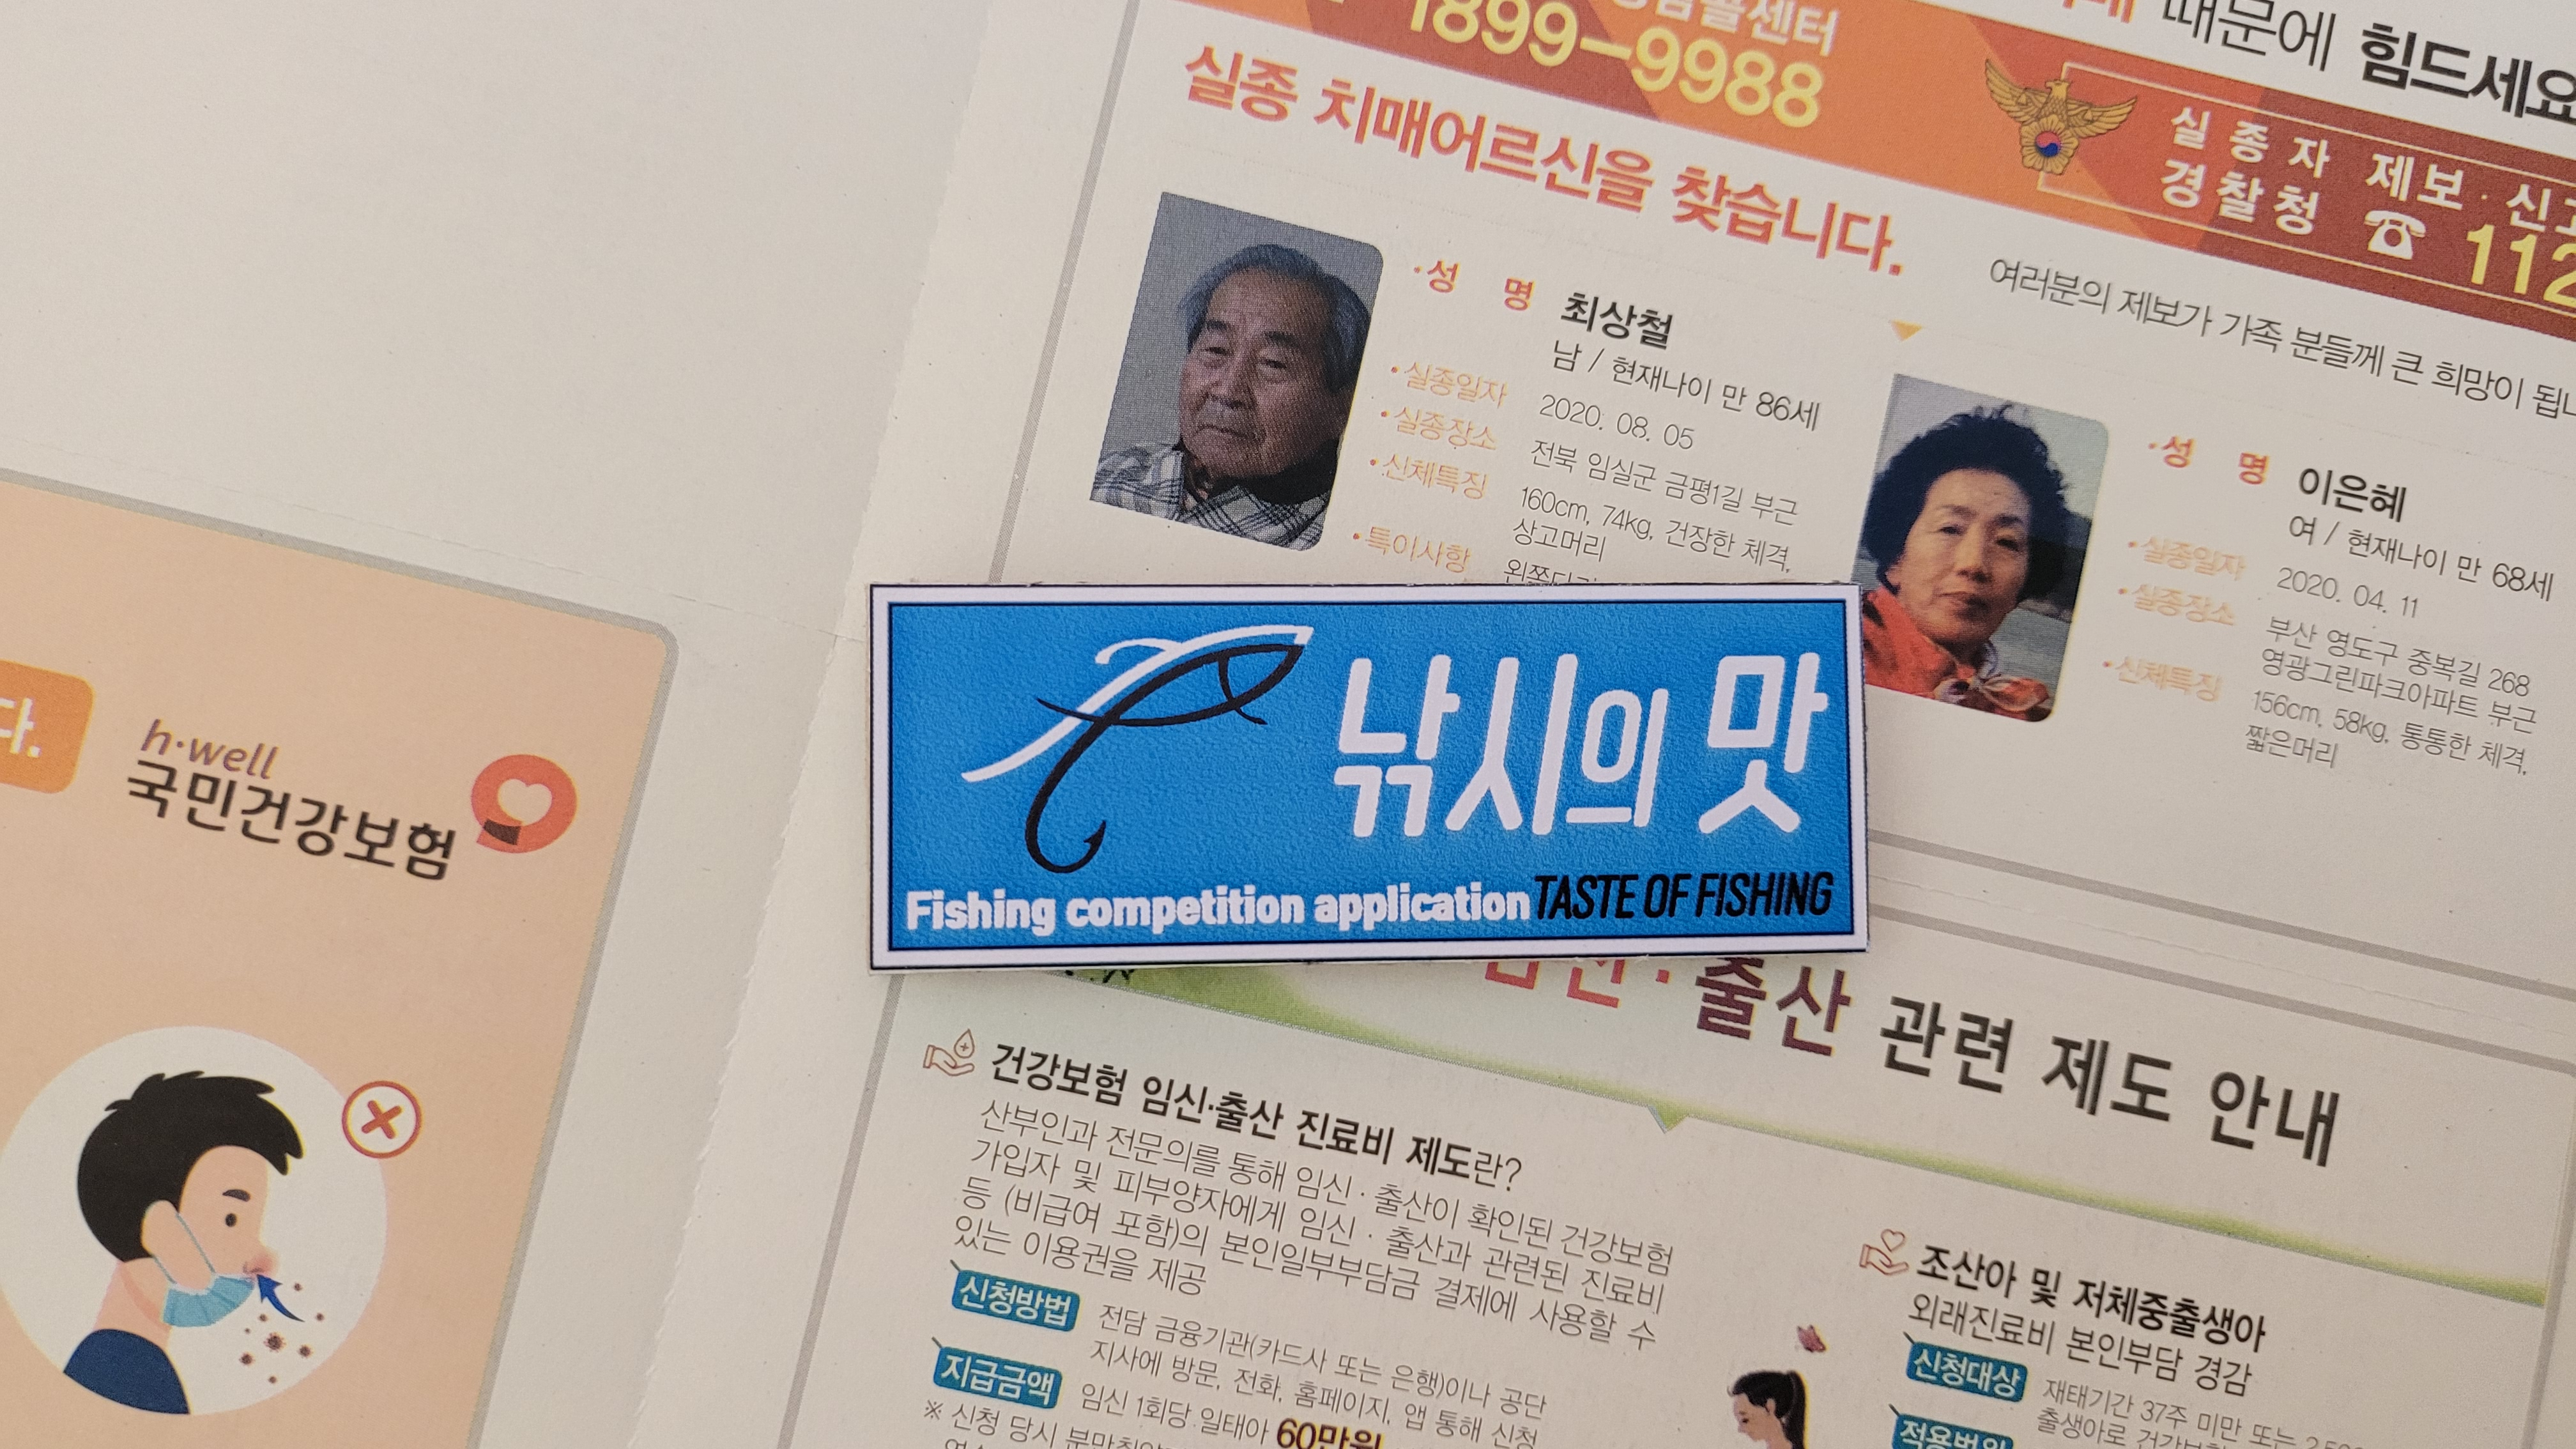tag: (872, 582, 1870, 962)
